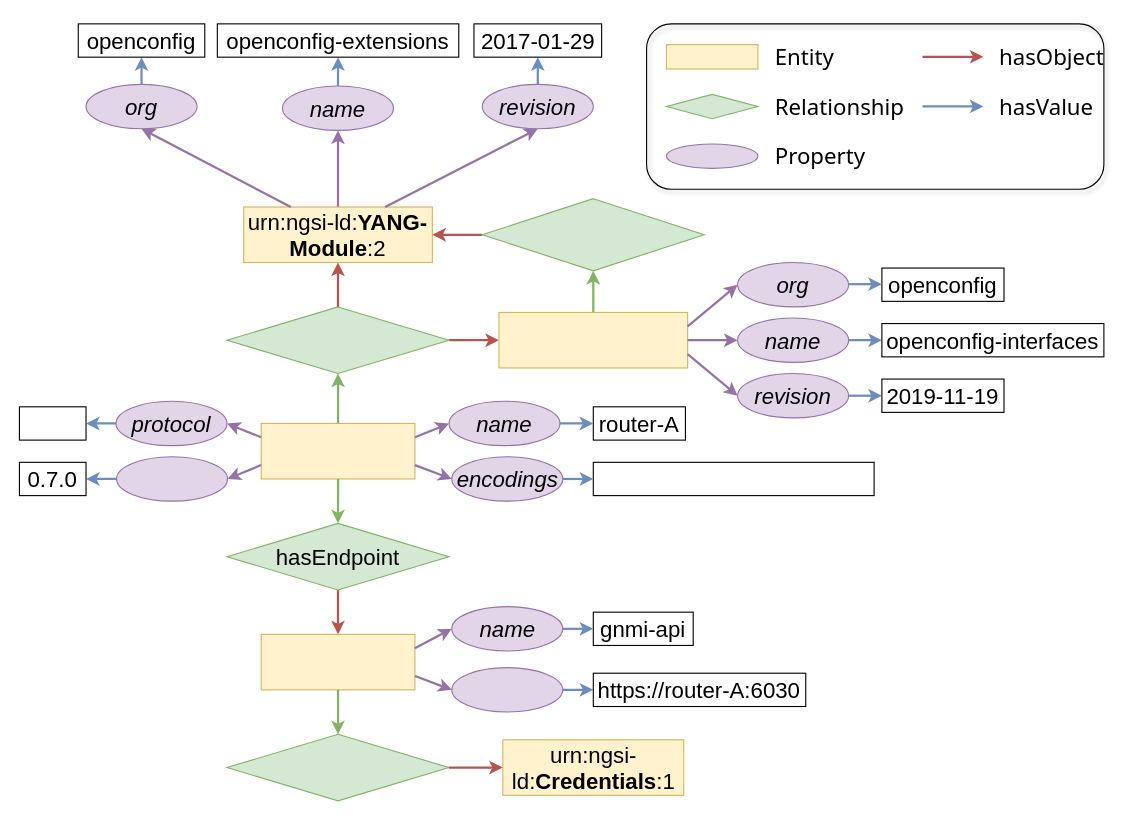
This 1130x820 diagram has some shape labels left out. The shapes that lost their labels are listed below. From the top down, each one's centre as x and y in pixels, then its label:
At [592,234]: "hasDependency".
At [337,340]: "hasModule".
At [593,339]: "urn:ngsi-ld: YANG-Module :1".
At [52,423]: "gNMI".
At [337,450]: "urn:ngsi-ld: Device :1".
At [171,478]: "version".
At [733,478]: "[JSON, JSON-IETF, ASCII]".
At [337,661]: "urn:ngsi-ld: Endpoint :1".
At [507,689]: "uri".
At [337,767]: "hasCredentials".
